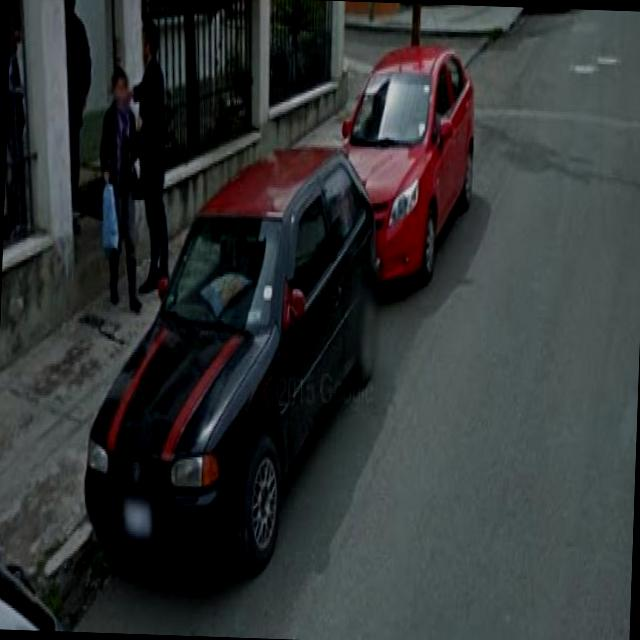car: (92, 166, 381, 578), (362, 40, 476, 296)
